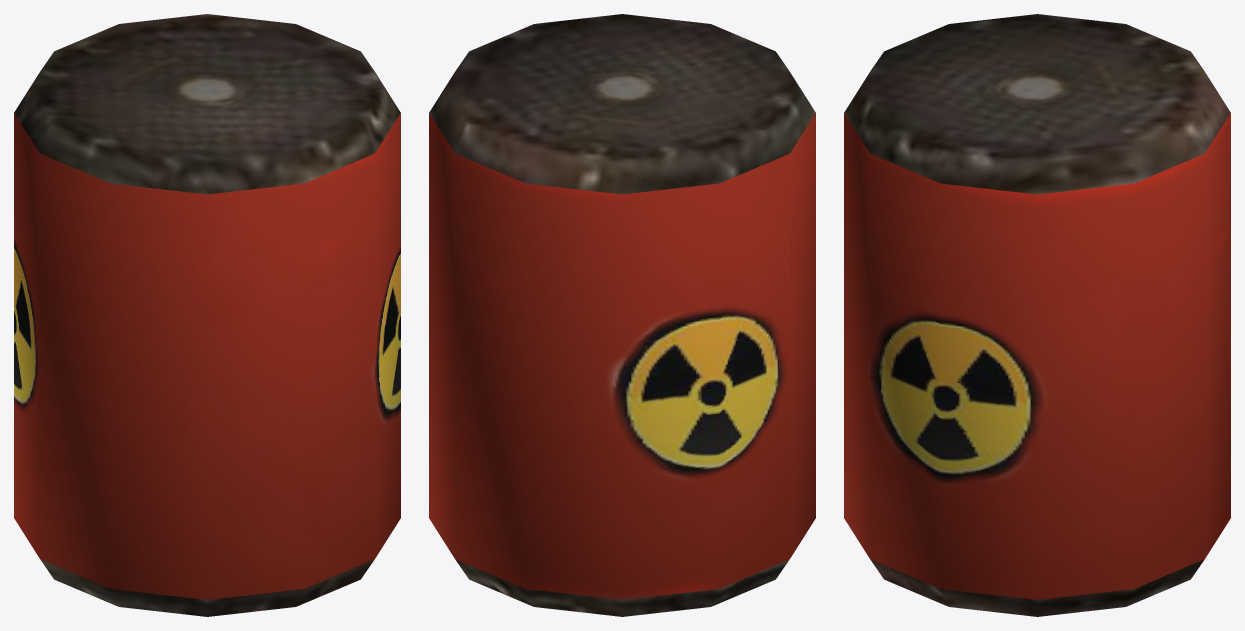
File: ScifiBarrel1.fbx
3 renders of one model, left to right at view 1: azimuth 30°, elevation 25°; view 2: azimuth 150°, elevation 25°; view 3: azimuth 270°, elevation 25°, orthographic.
Visible parts, largest first — view 1: ScifiBarrel_LOD0; view 2: ScifiBarrel_LOD0; view 3: ScifiBarrel_LOD0.
Boxes of the visible parts, x1,y1,x2,y2 form: ScifiBarrel_LOD0: (14, 14, 400, 616); ScifiBarrel_LOD0: (429, 14, 815, 616); ScifiBarrel_LOD0: (844, 14, 1230, 616).
Size of what is drawn, in the model's own units: 413 by 534 by 413.
1 material, 1 textured.
